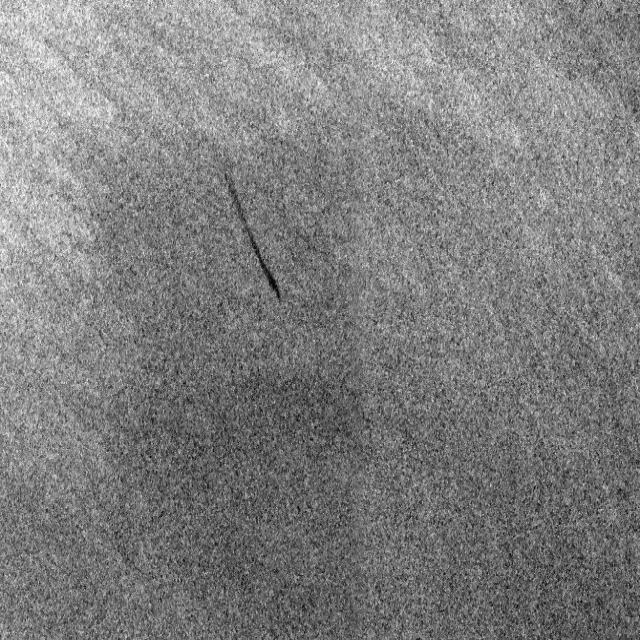oil-spill: (215, 163, 295, 316)
